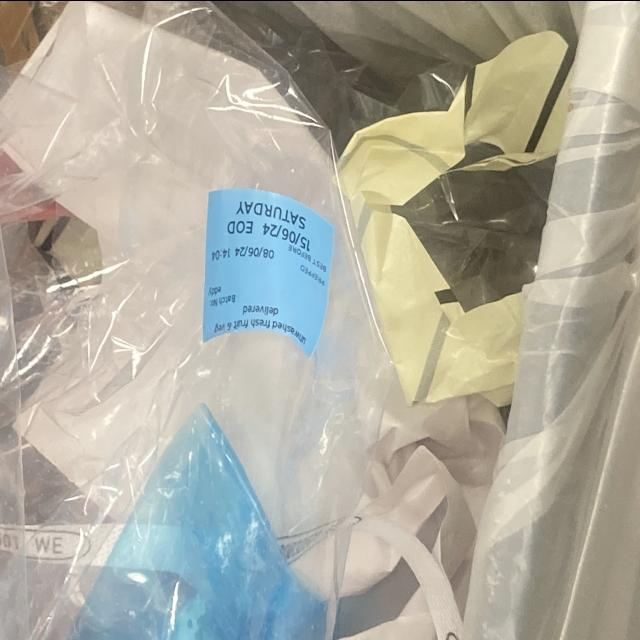product-labels: (202, 190, 335, 346)
